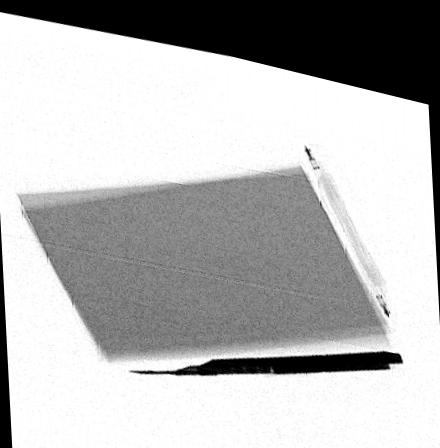Knife: (124, 330, 404, 367)
